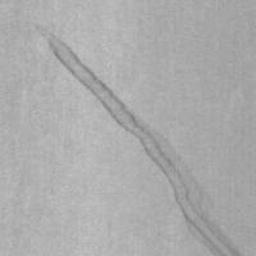Water spot: (40, 29, 243, 256)
